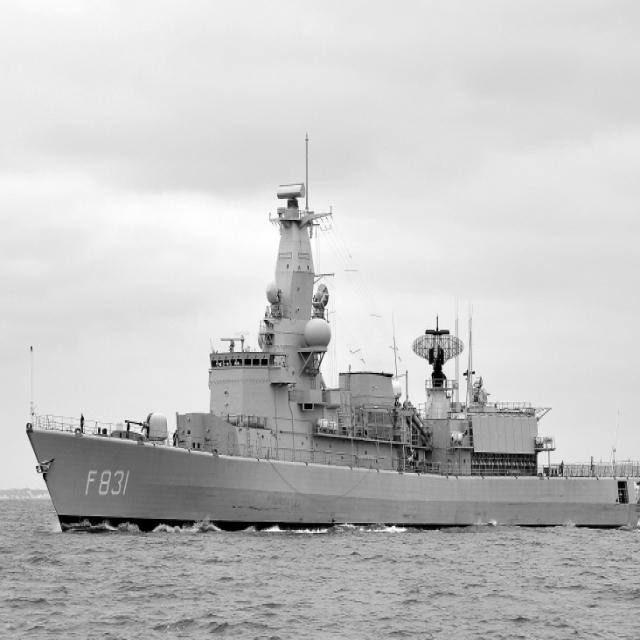Fragata: (19, 152, 640, 540)
